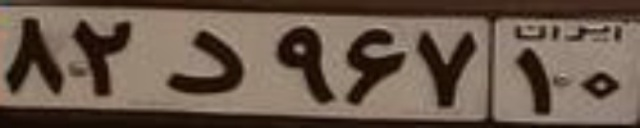0: (579, 71, 620, 100)
1: (512, 46, 551, 115)
2: (72, 18, 131, 96)
6: (344, 28, 403, 104)
7: (415, 31, 477, 108)
8: (5, 16, 62, 97)
9: (273, 26, 333, 103)
dal: (163, 29, 245, 94)
